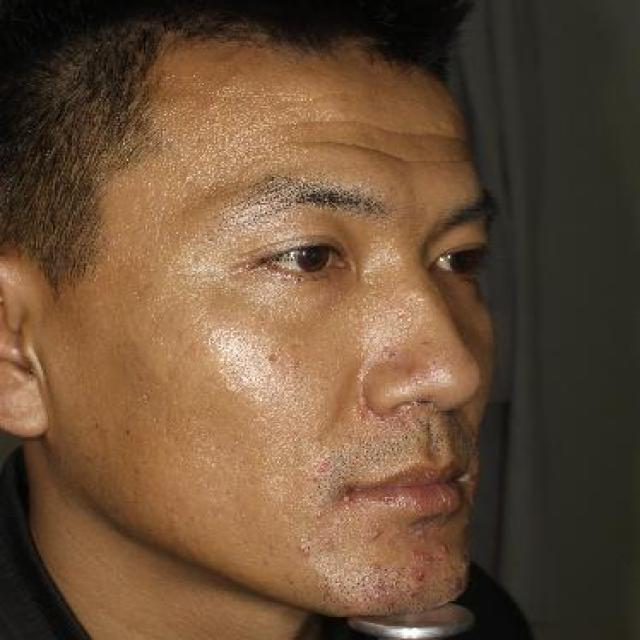papules: (296, 538, 311, 557)
pustules: (429, 536, 454, 558), (361, 522, 385, 544), (402, 362, 426, 383), (370, 577, 390, 597), (418, 336, 437, 352), (411, 568, 426, 586)
